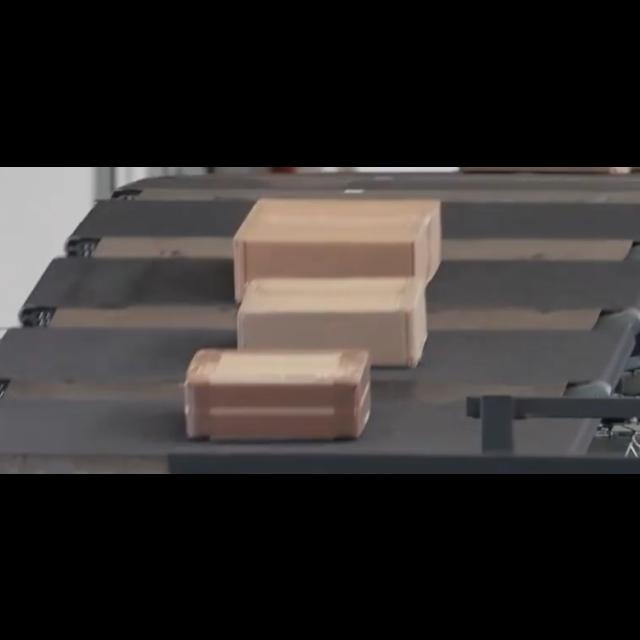box: (234, 198, 442, 284), (184, 348, 376, 439), (237, 278, 428, 367)
